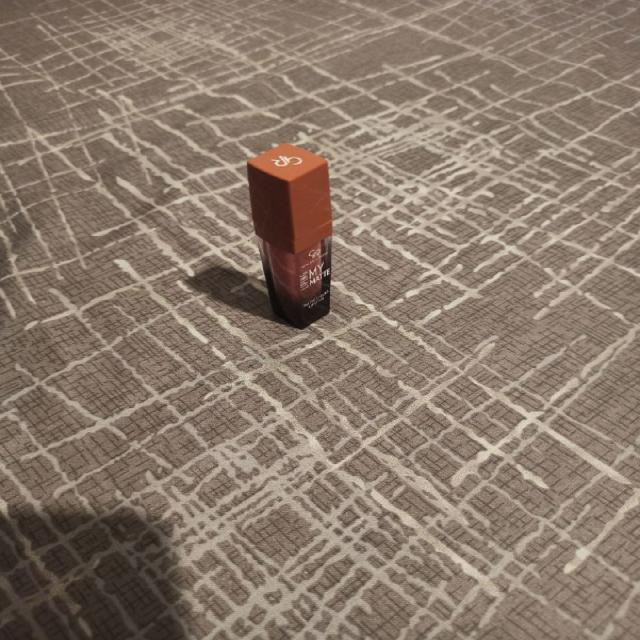lipstick: (245, 142, 333, 329)
